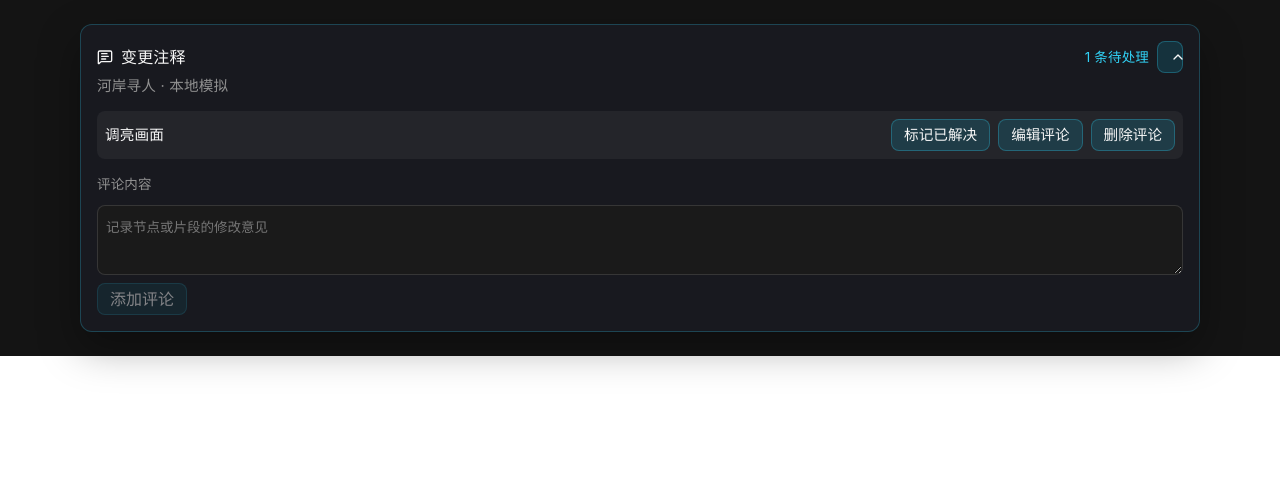
edits and confirms deletion with the visible comment version
expect the text "调亮画面" is shown: met, box [105,122,164,148]
Click the button "编辑评论" at (1040, 135), box [998,119,1082,151]
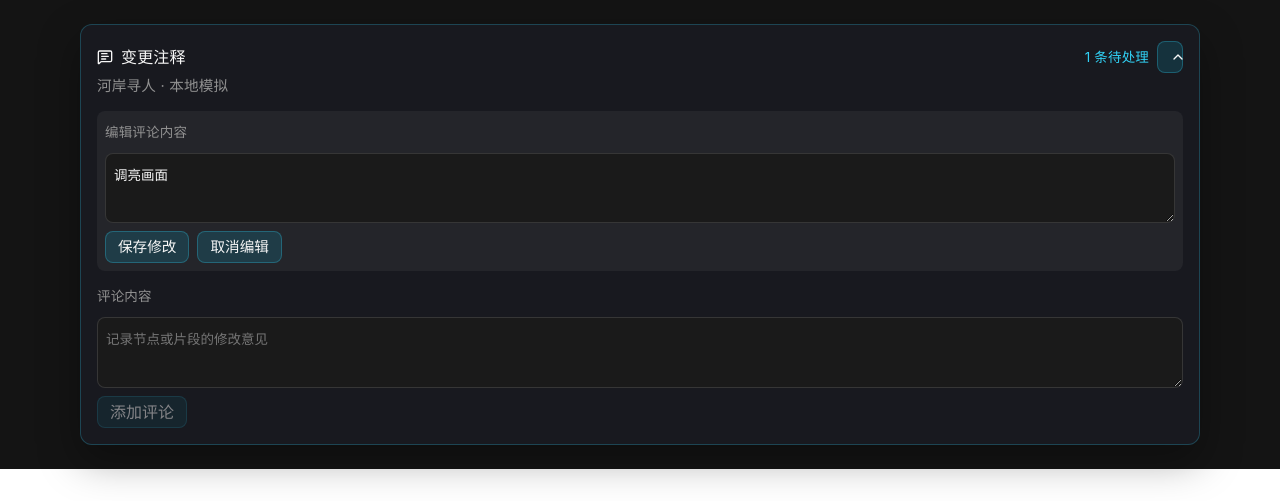
Replace the text in the text box labelled "编辑评论内容" with "增加雨雾" at (640, 188), box [105,153,1175,223]
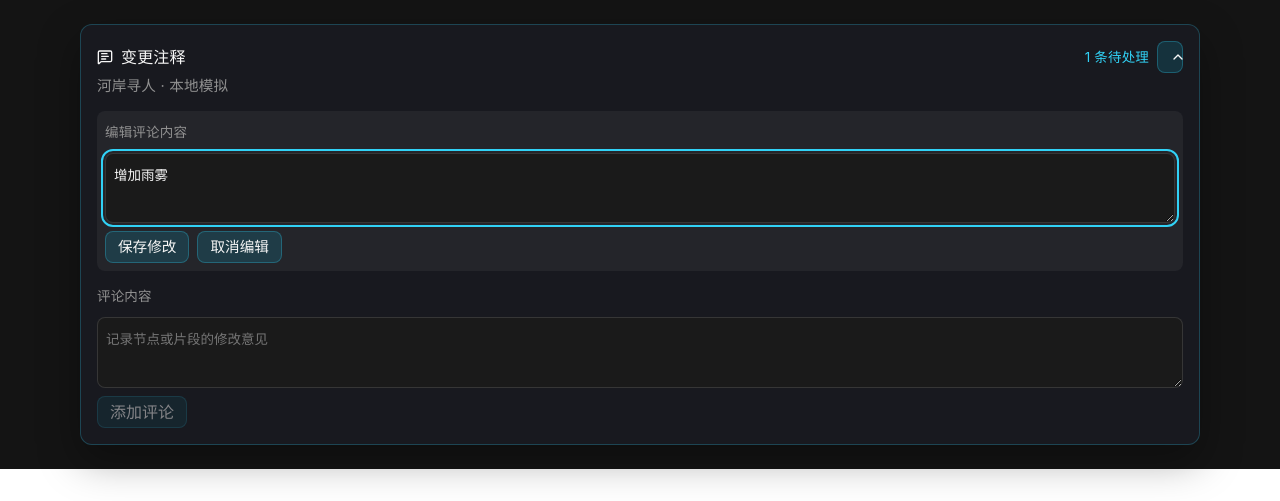
Click the button "保存修改" at (147, 247), box [105,231,189,263]
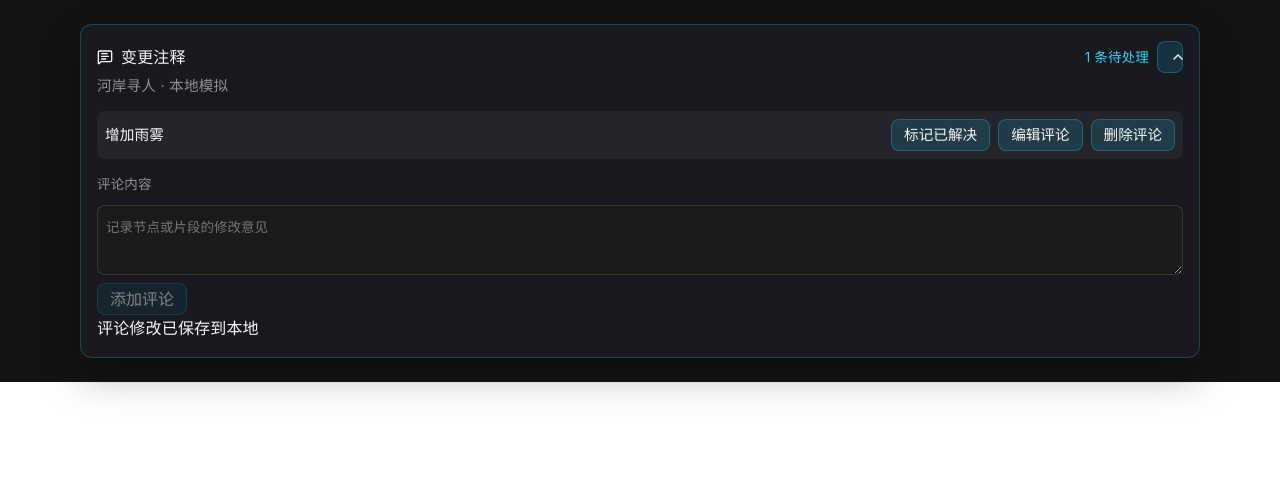
expect the text "增加雨雾" is shown: met, box [105,122,164,148]
Click the button "删除评论" at (1133, 135), box [1091,119,1175,151]
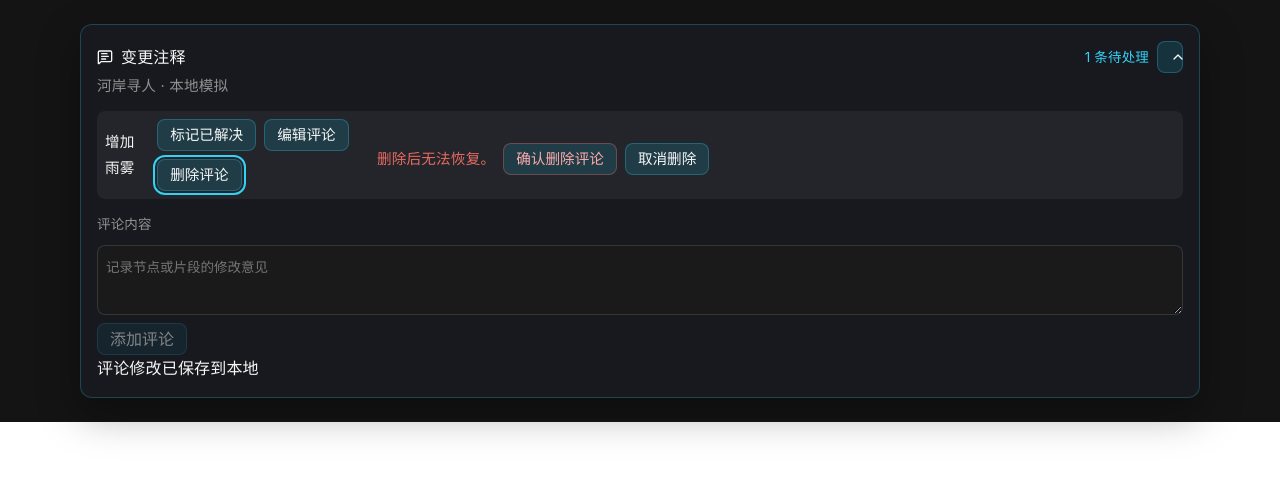
expect the text "删除后无法恢复。" is shown: met, box [377,146,495,172]
Click the button "确认删除评论" at (560, 159), box [503,143,617,175]
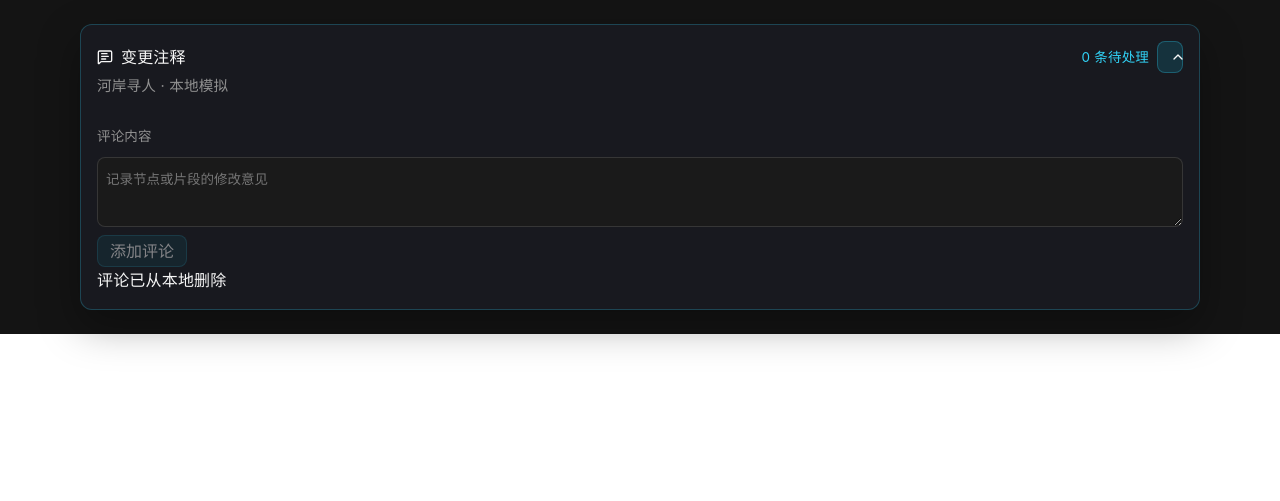
expect the text "增加雨雾" is gone: met
